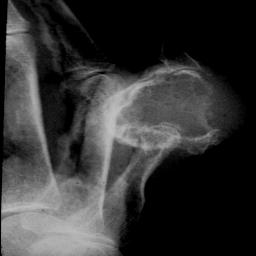cancer: (101, 69, 226, 155)
